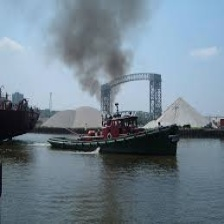smoke: (47, 5, 136, 104)
